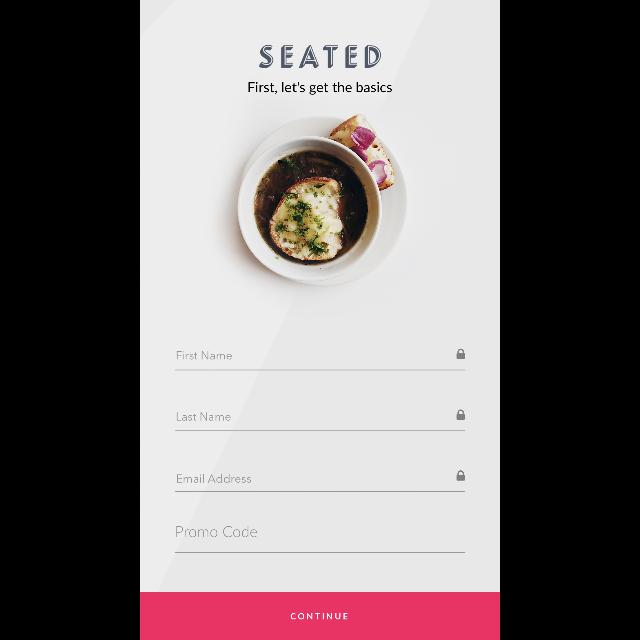icon: (457, 349, 465, 359), (457, 410, 465, 420), (457, 471, 465, 481)
image: (237, 113, 408, 287)
input: (175, 526, 465, 554), (175, 349, 465, 371), (175, 410, 465, 432), (175, 470, 465, 492)
text: (259, 46, 381, 68), (248, 82, 392, 96), (177, 526, 257, 538), (177, 473, 251, 482), (176, 351, 232, 359), (177, 413, 231, 421)
textbutton: (140, 592, 500, 640)
